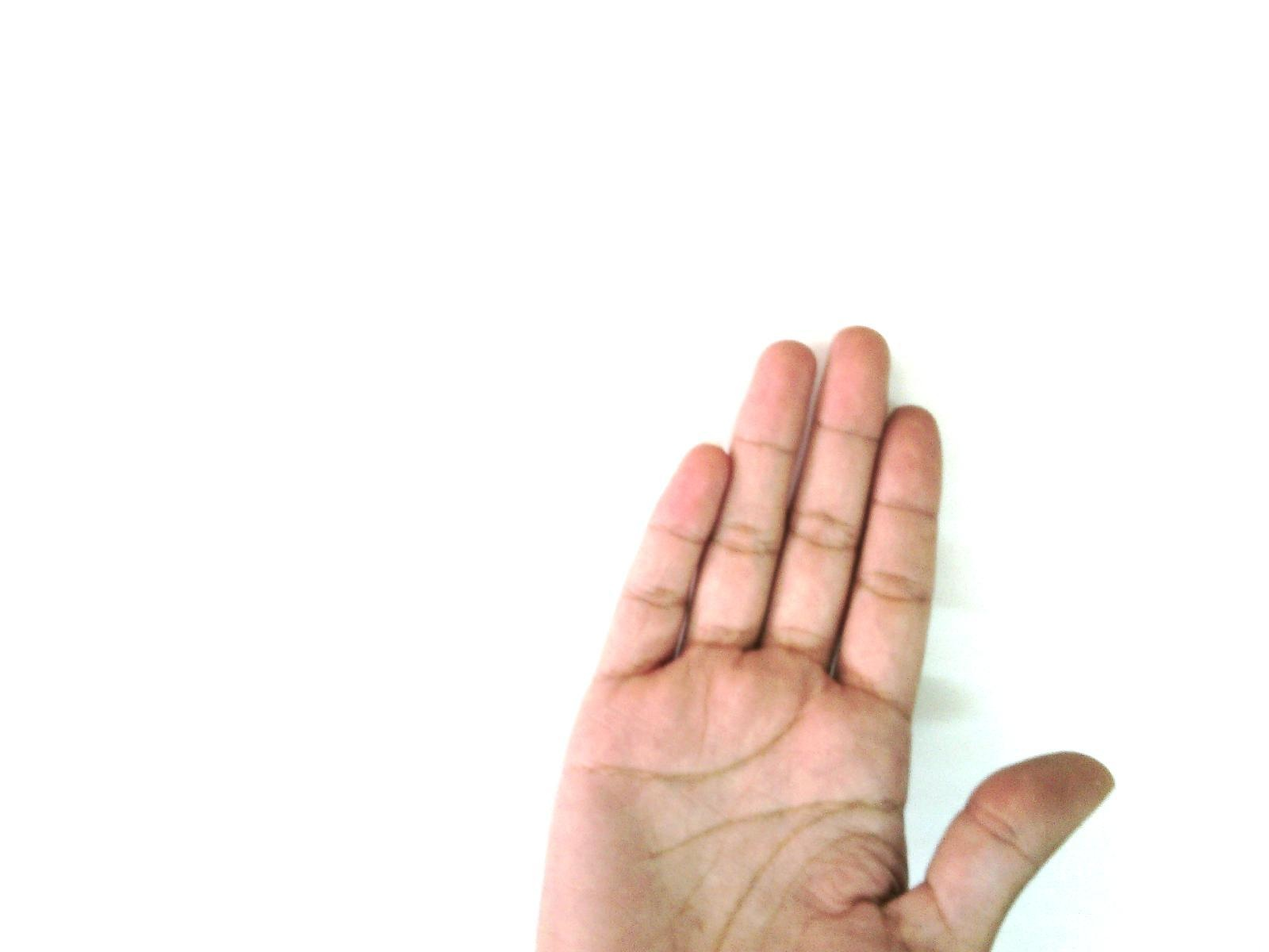open_palm: (532, 324, 1118, 951)
